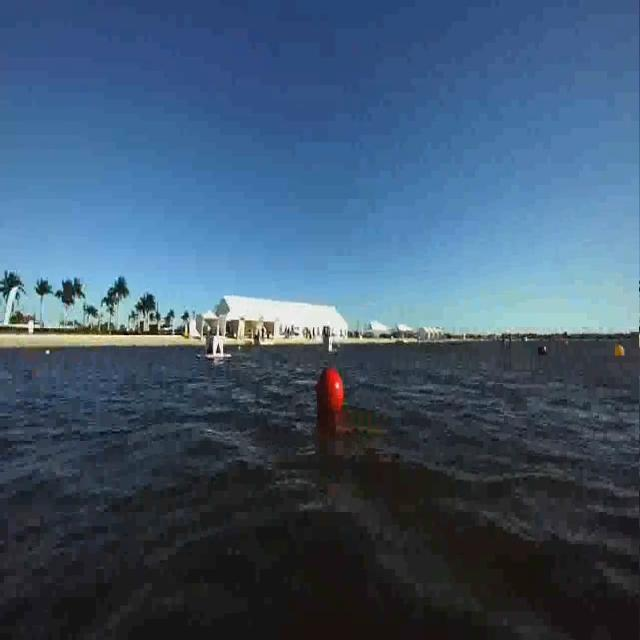red-buoy: (317, 370, 345, 417)
yellow-buoy: (616, 342, 627, 359)
